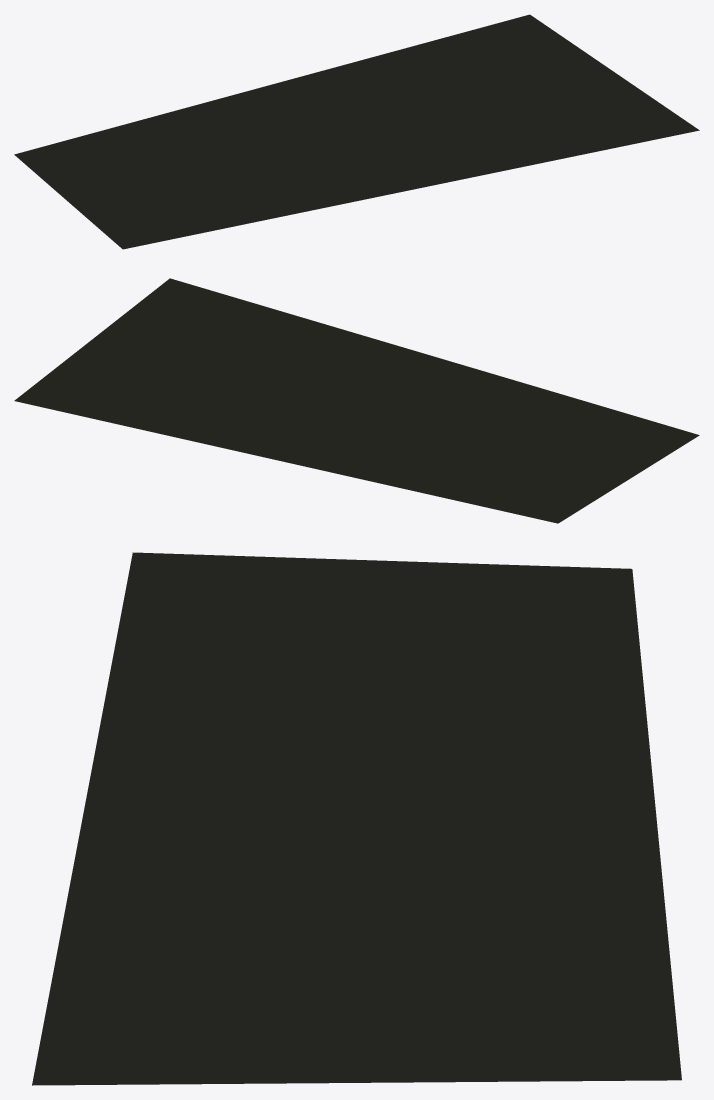
Rendered from OZ_99_sn_sdwbox03B.glb.
The picture shows the model from 3 angles, top to bottom: view 1: azimuth 30°, elevation 25°; view 2: azimuth 150°, elevation 25°; view 3: azimuth 270°, elevation 25°; orthographic projection. The views are drawn at different scales.
Parts seen in each view (by area): view 1: OM_99_sn_sdwbox03B; view 2: OM_99_sn_sdwbox03B; view 3: OM_99_sn_sdwbox03B.
Boxes of the visible parts, x1=… form: OM_99_sn_sdwbox03B: x1=14, y1=14, x2=699, y2=249; OM_99_sn_sdwbox03B: x1=14, y1=278, x2=699, y2=523; OM_99_sn_sdwbox03B: x1=32, y1=552, x2=681, y2=1085.
Size of the model in its own units: 4.05 by 0.0224 by 2.06.
Materials: 1 (1 with a texture image).
